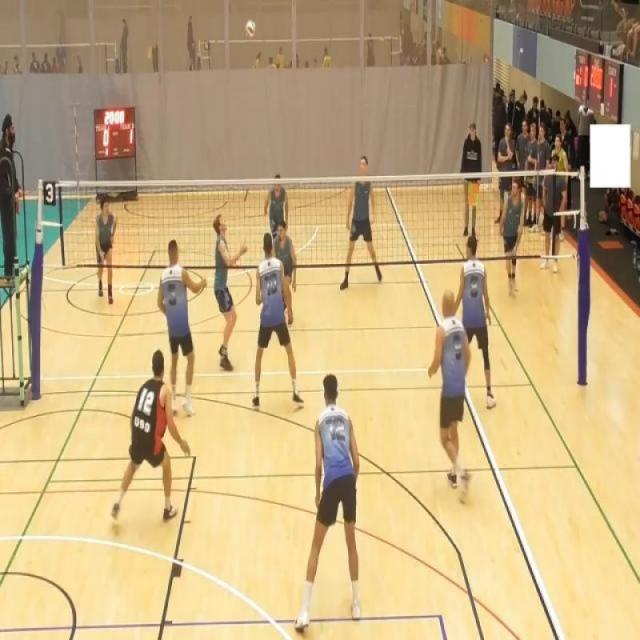volleyball: (245, 19, 256, 39)
